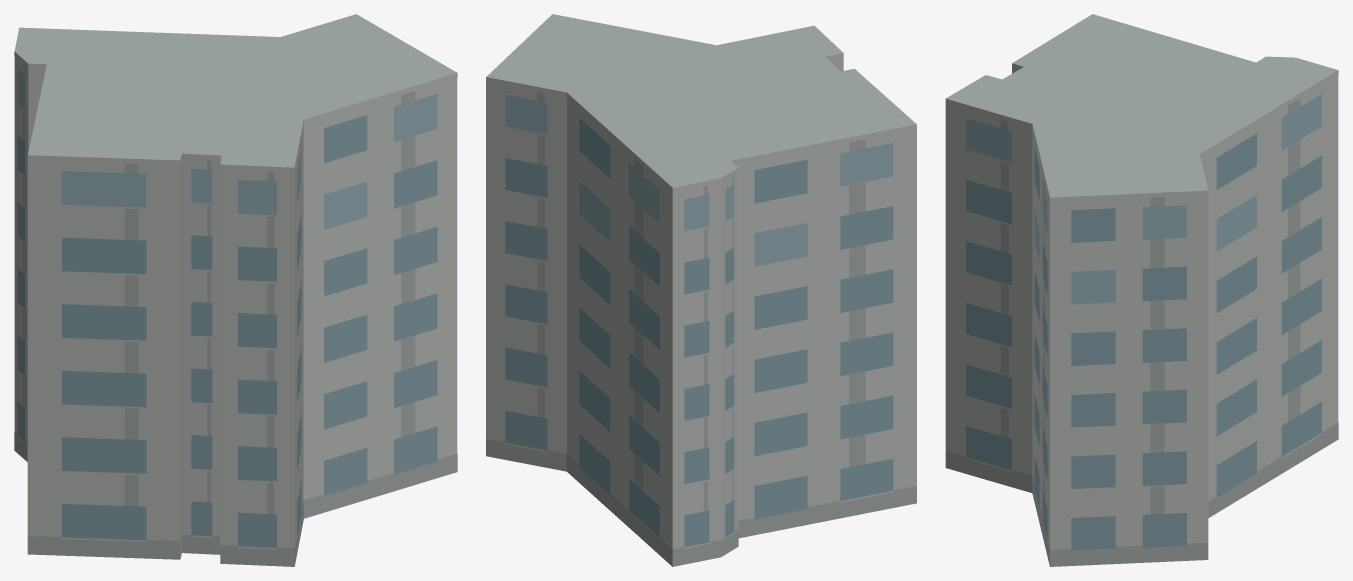
File: survey-upis-32627590.glb
The picture shows the model from 3 angles, left to right: view 1: azimuth 30°, elevation 25°; view 2: azimuth 150°, elevation 25°; view 3: azimuth 270°, elevation 25°; orthographic projection. The views are drawn at different scales.
Visible parts, largest first — view 1: survey-upis-32627590.tmp; view 2: survey-upis-32627590.tmp; view 3: survey-upis-32627590.tmp.
Boxes of the visible parts, left/top/right/bottom form: survey-upis-32627590.tmp: left=14, top=14, right=457, bottom=566; survey-upis-32627590.tmp: left=486, top=14, right=916, bottom=566; survey-upis-32627590.tmp: left=945, top=14, right=1338, bottom=566.
Size of the model in its own units: 19.89 by 18.65 by 17.99.
